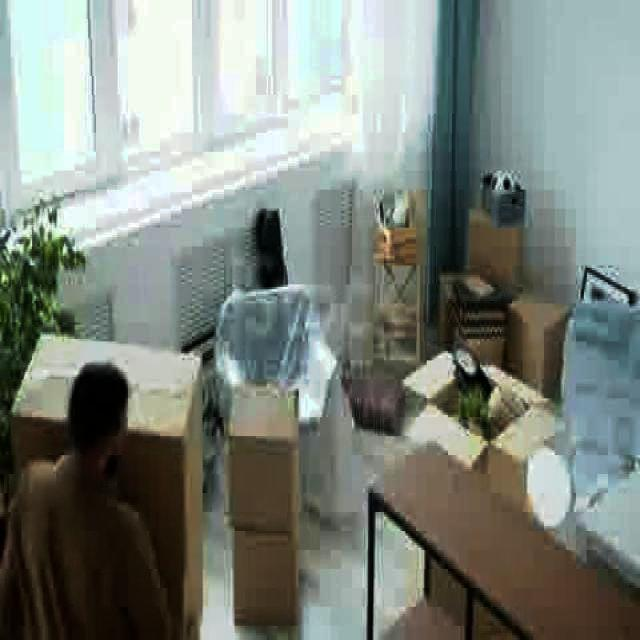Box: (232, 406, 298, 527), (230, 529, 296, 617), (511, 288, 566, 384), (471, 210, 519, 278)
